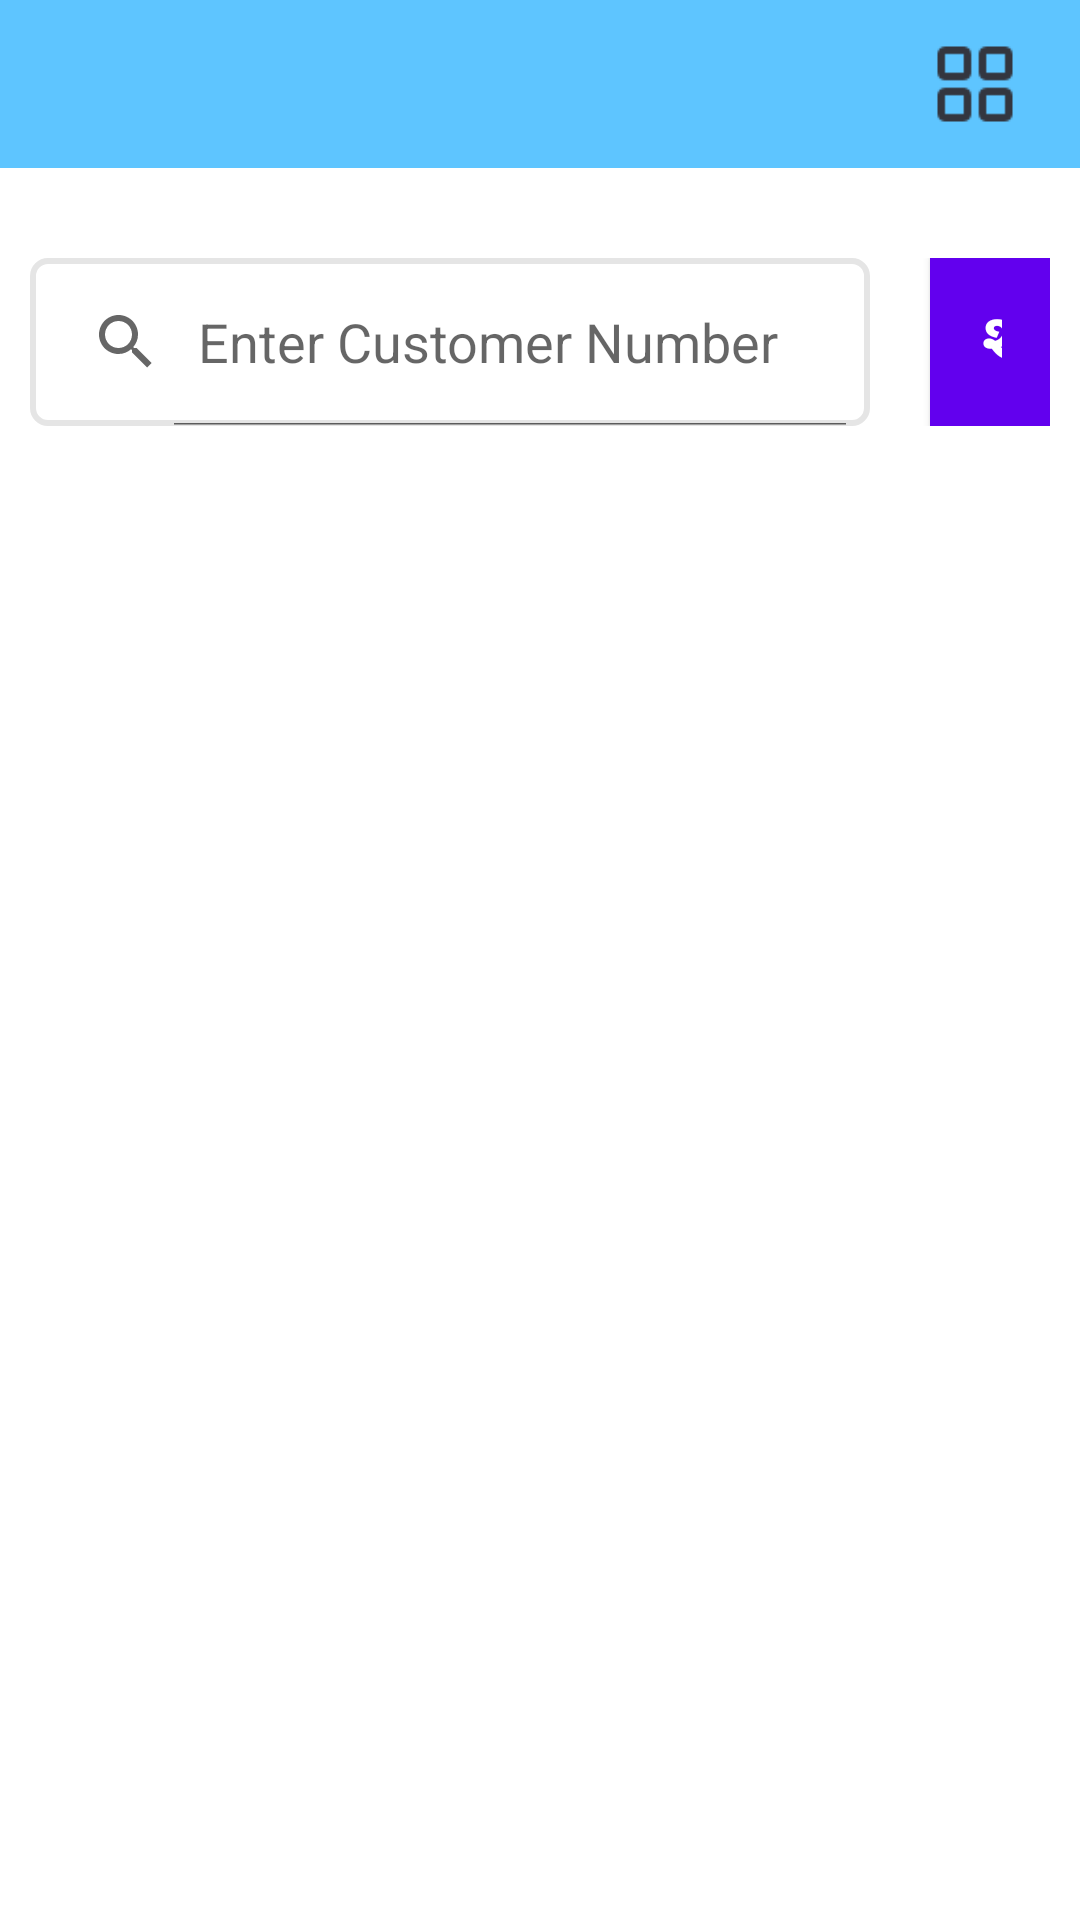

Locate icon controls on the screen. Image size 1080*1920, boxes as bbox=(x1, y1, x2, y2).
more setting: bbox=(937, 46, 1013, 122)
